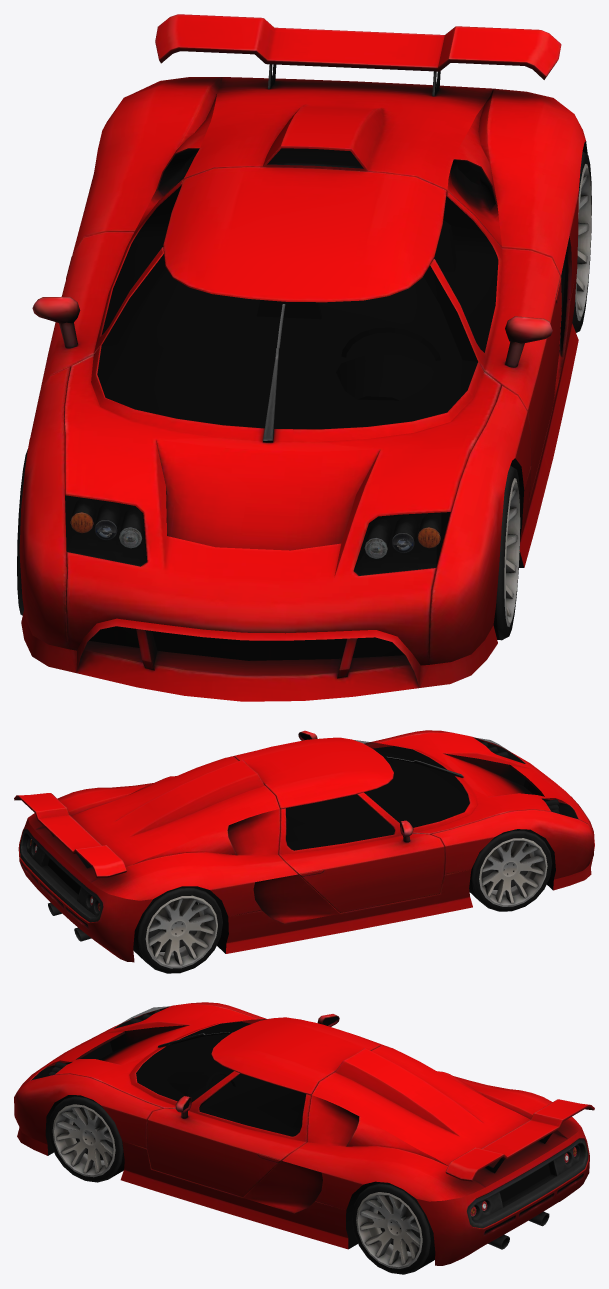
Rendered from pack_sport.glb.
3 views of the same model, one above another, from view 1: azimuth 30°, elevation 25°; view 2: azimuth 150°, elevation 25°; view 3: azimuth 270°, elevation 25° (orthographic). The views are drawn at different scales.
Parts seen in each view (by area): view 1: Sport body_Body_0, Sport body_Glass_0, Wheel_H_Wheel_0, Sport body_Optics_0; view 2: Sport body_Body_0, Wheel_H_Wheel_0, Sport body_Glass_0; view 3: Sport body_Body_0, Wheel_H_Wheel_0, Sport body_Glass_0.
Boxes of the visible parts, x1,y1,x2,y2 form: Sport body_Body_0: (19, 14, 587, 701); Sport body_Glass_0: (65, 185, 497, 575); Wheel_H_Wheel_0: (17, 152, 591, 640); Sport body_Optics_0: (70, 512, 440, 558); Sport body_Body_0: (14, 730, 594, 962); Wheel_H_Wheel_0: (133, 829, 552, 973); Sport body_Glass_0: (286, 737, 577, 850); Sport body_Body_0: (14, 1002, 594, 1265); Wheel_H_Wheel_0: (48, 1095, 435, 1274); Sport body_Glass_0: (32, 1006, 305, 1136).
Bounding box in the file's own units: 3.28 × 1.04 × 3.79.
Materials: 4 (3 with a texture image).
